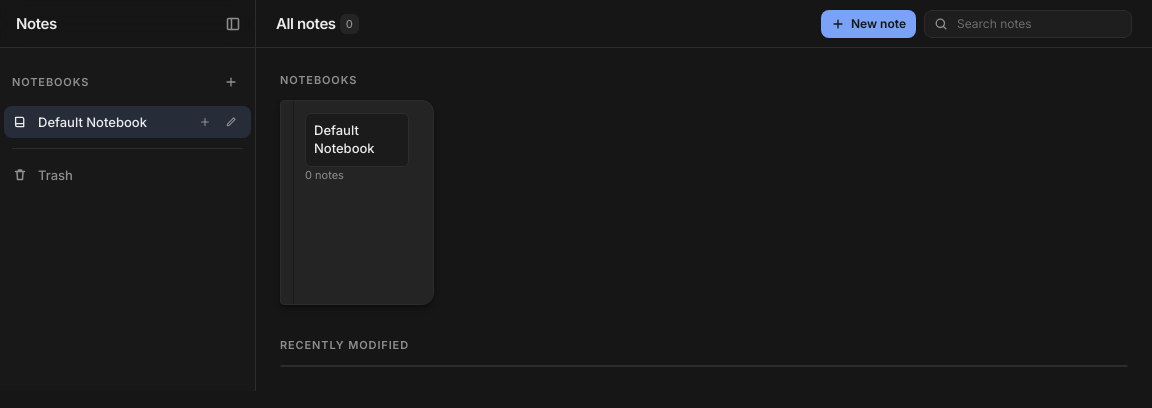
Test: NotesView, the notebook sidebar › creates a notebook from the sidebar
Click the button named "Add notebook" at (231, 82), box [219,70,243,94]
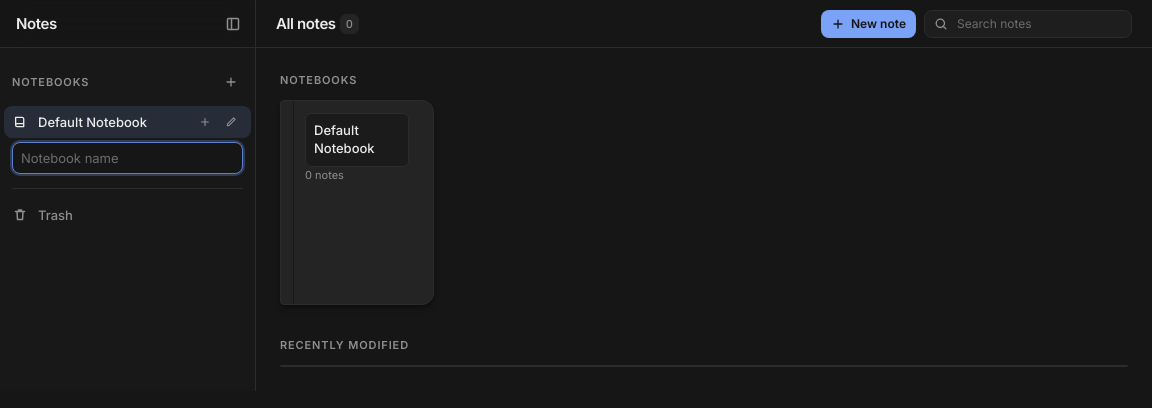
Type "Work" into the field named "New notebook name" at (128, 158), box [12,142,243,174]
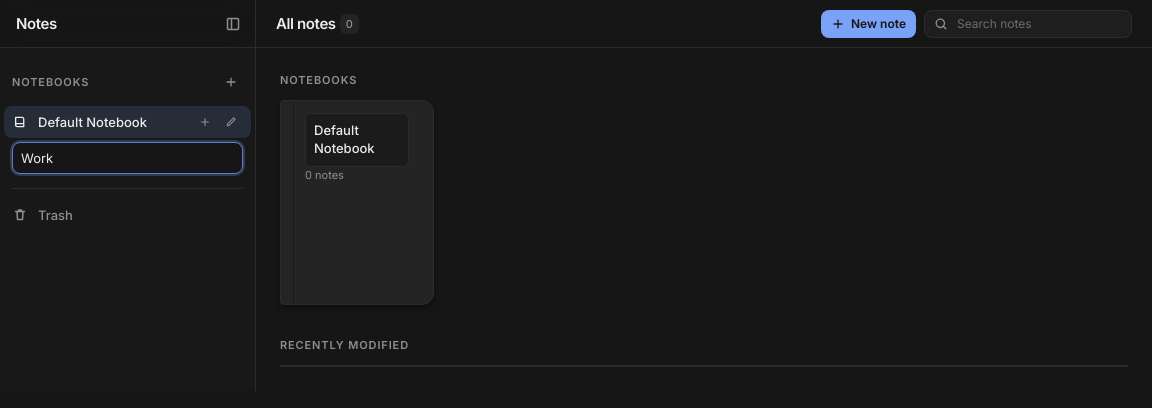
Submit the form named "New notebook name", box [4,138,251,178]
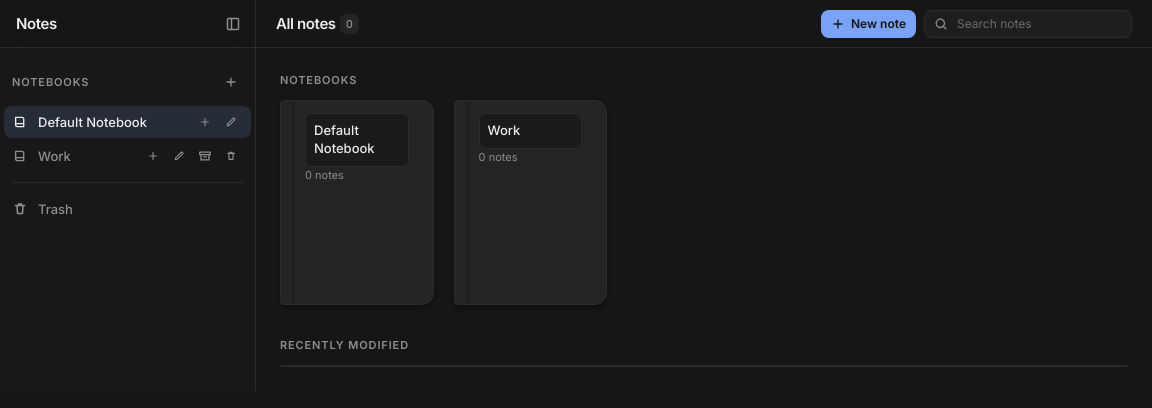
Now the 2nd text "Work" is shown, box [38,148,71,164]
